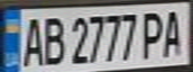2: (66, 11, 90, 65)
7: (118, 10, 142, 61), (84, 11, 106, 64), (103, 11, 124, 62)
A: (160, 7, 190, 58), (18, 12, 45, 68)
B: (39, 12, 66, 66)
P: (139, 8, 169, 60)
